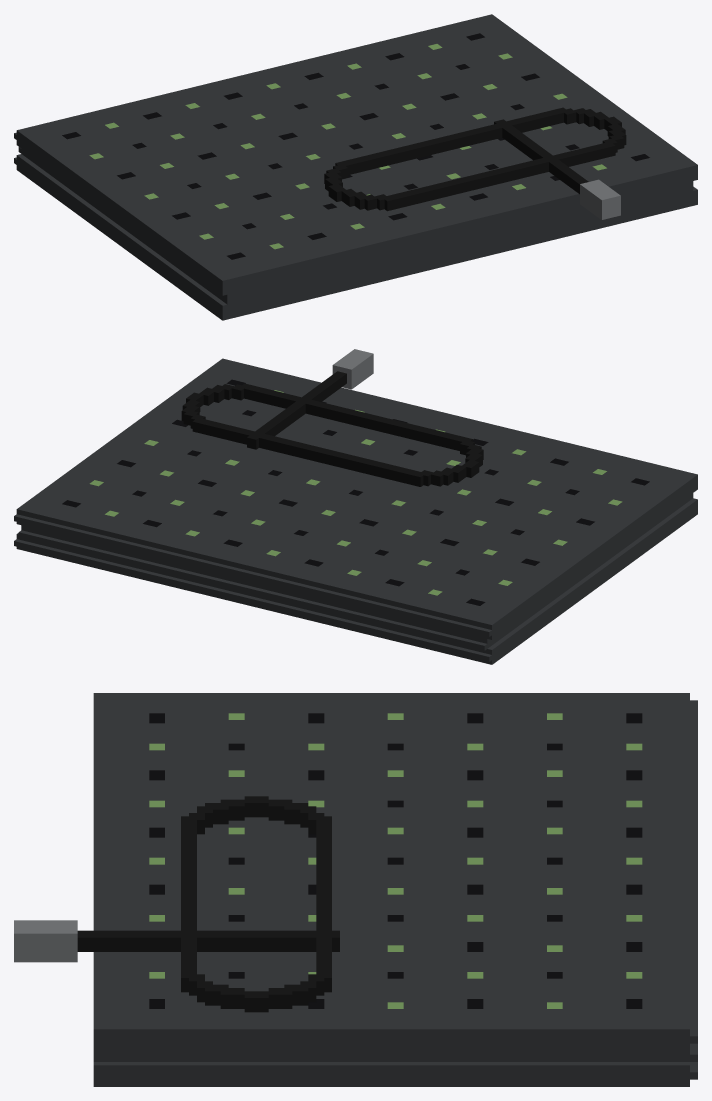
Rendered from optical_cloak.glb.
The picture shows the model from 3 angles, top to bottom: view 1: azimuth 30°, elevation 25°; view 2: azimuth 150°, elevation 25°; view 3: azimuth 270°, elevation 25°; orthographic projection. The views are drawn at different scales.
Visible parts, largest first — view 1: optical_cloak:compound; view 2: optical_cloak:compound; view 3: optical_cloak:compound.
Boxes of the visible parts, box(x1,y1,x2,y2) form: optical_cloak:compound: box(14, 14, 697, 320); optical_cloak:compound: box(14, 349, 697, 664); optical_cloak:compound: box(14, 693, 697, 1086).
Bounding box in the file's own units: 0.4 × 0.044 × 0.344.
